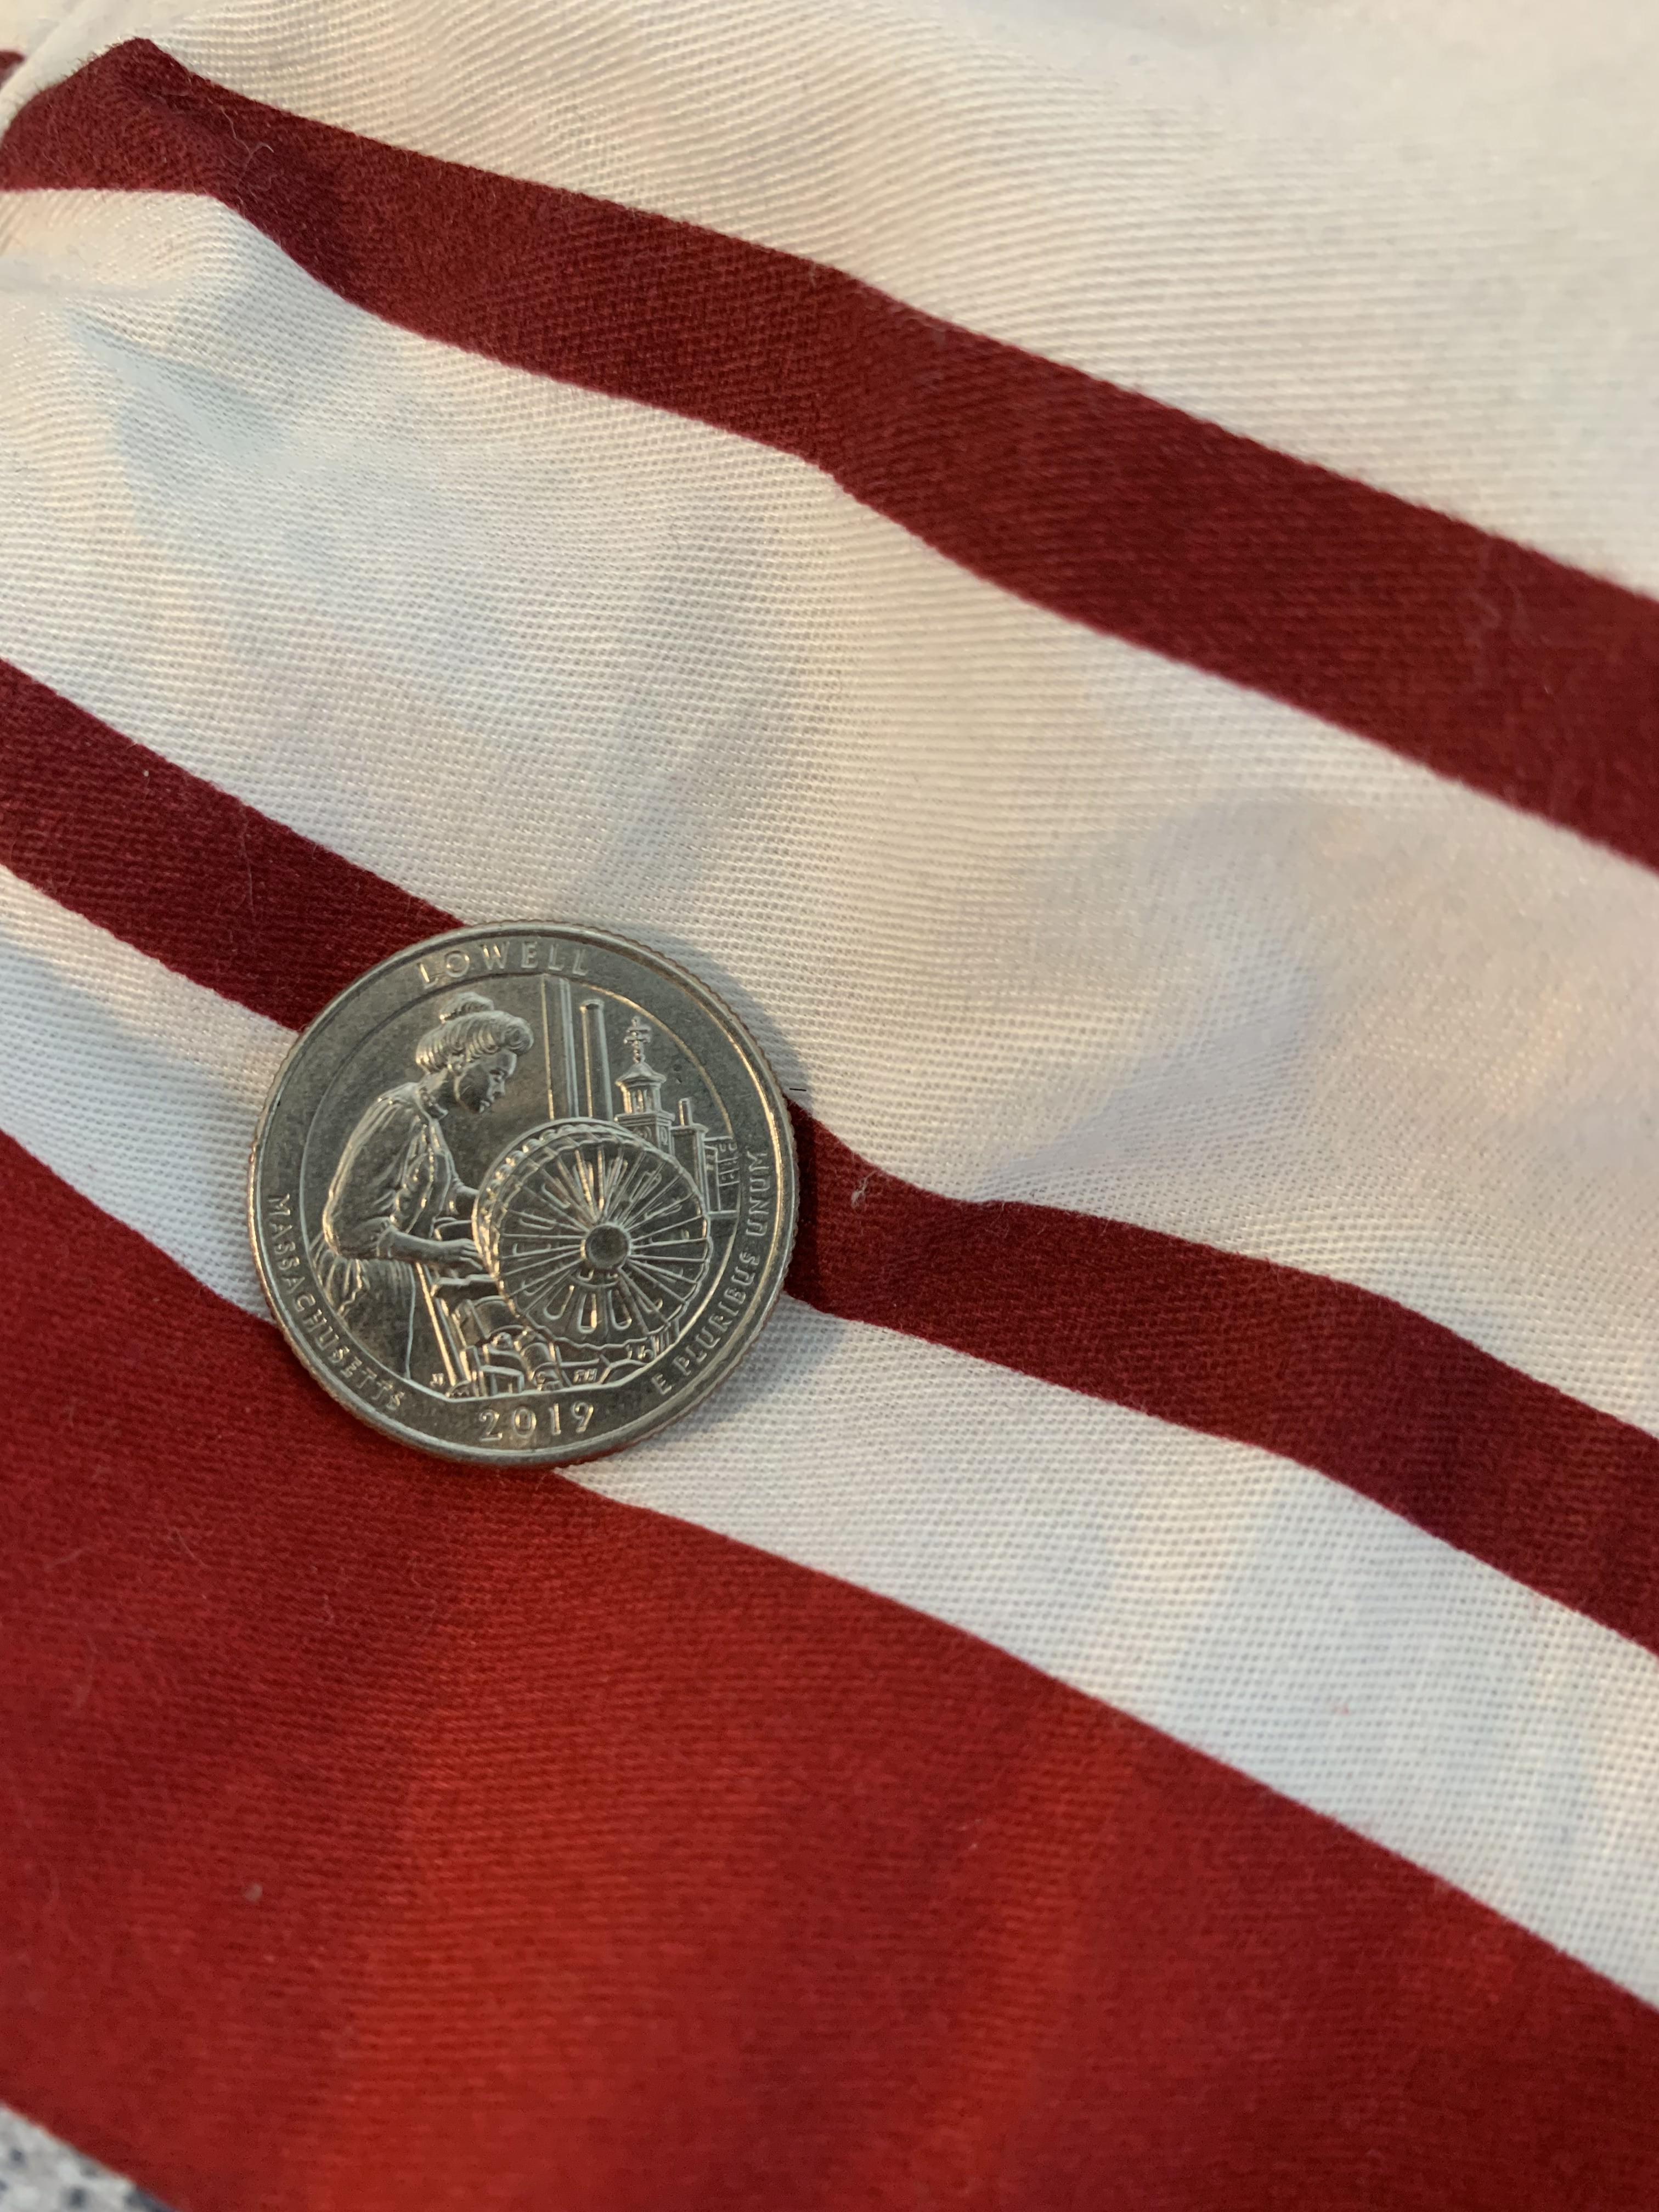Quarter: (228, 900, 826, 1496)
